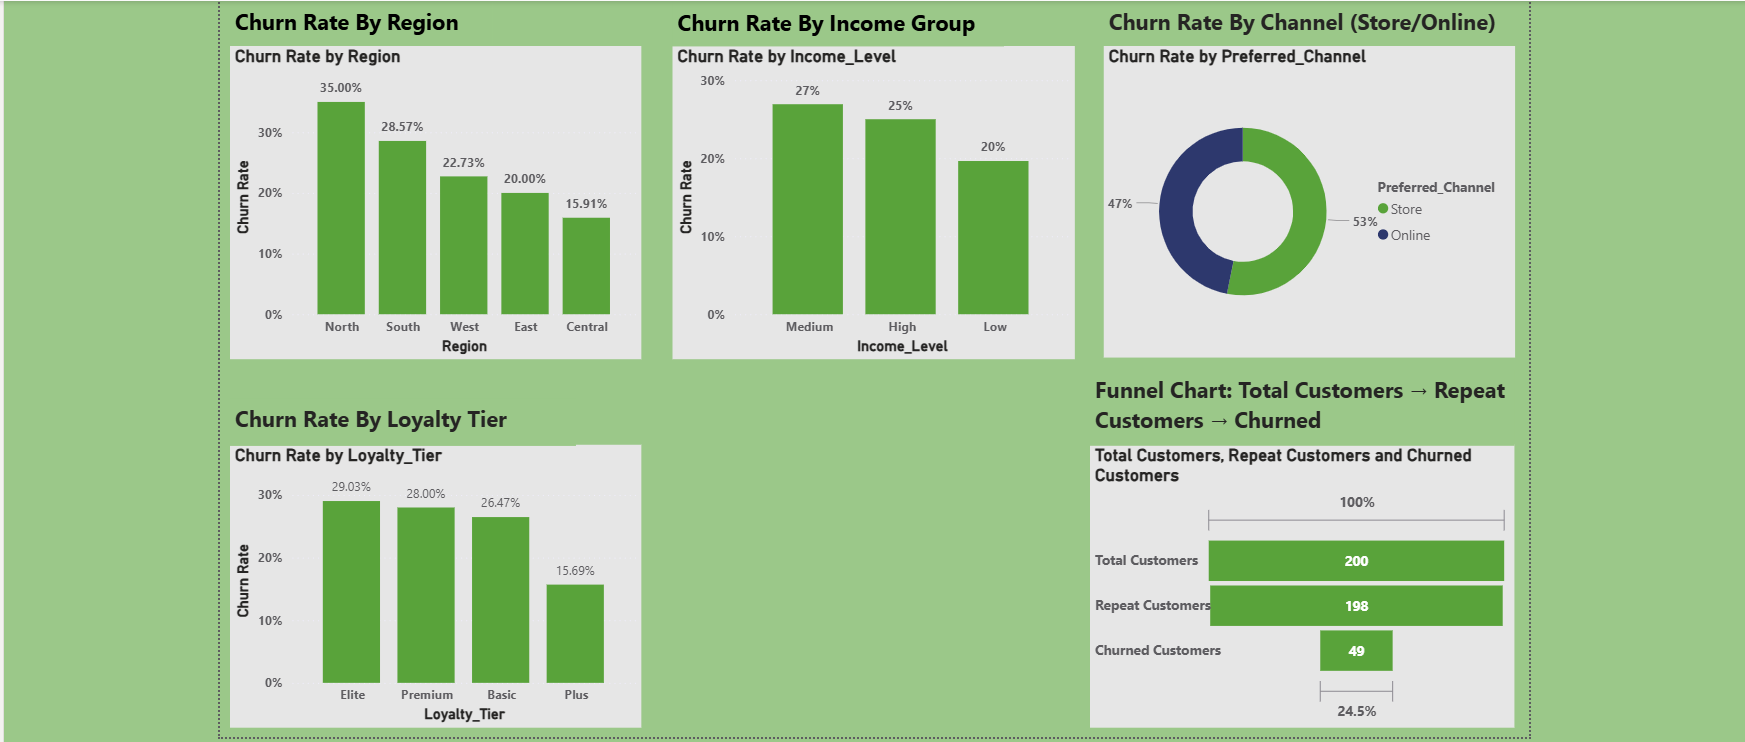

What the dashboard file says about the page in this screenshot:
{"tool":"powerbi","page":{"name":"Task 2","canvas":[1280,720],"ordinal":0},"visuals":[{"type":"clusteredColumnChart","fields":{"Category":["Customer_Demographics.Region"],"Y":["measures .Churn Rate KPI"]},"box":[10.3,43.6,402.6,306.4],"z":0},{"type":"textbox","box":[10.3,0,256.4,43.6],"z":1000},{"type":"clusteredColumnChart","fields":{"Category":["Customer_Demographics.Income_Level"],"Y":["measures .Churn Rate KPI"]},"box":[442.3,43.6,393.6,306.4],"z":2000},{"type":"textbox","box":[442.3,1.3,324.4,43.6],"z":3000},{"type":"donutChart","fields":{"Category":["Customer_Demographics.Preferred_Channel"],"Y":["measures .Churn Rate KPI"]},"box":[864.1,43.6,402.6,305.1],"z":4000},{"type":"textbox","box":[864.1,0,402.6,43.6],"z":5000},{"type":"clusteredColumnChart","fields":{"Category":["Loyalty_Program.Loyalty_Tier"],"Y":["measures .Churn Rate KPI"]},"box":[10.3,434.6,402.6,276.9],"z":6000},{"type":"textbox","box":[10.3,388.5,338.5,46.2],"z":7000},{"type":"funnel","fields":{"Y":["measures .Total Customers","measures .Repeat Customers","measures .Churned Customers"]},"box":[851.3,434.6,415.4,276.9],"z":8000},{"type":"textbox","box":[851.3,360.3,415.4,74.4],"z":9000}]}

Visuals, with their boxes on the page's 1280x720 design canvas (x1, y1, x2, y2). These are canvas units, not pixel positions in the 1745x742 screenshot, which may show the page scaled, cropped or inside an application window:
clusteredColumnChart - Customer_Demographics.Region x measures .Churn Rate KPI: bbox(10, 44, 413, 350)
textbox: bbox(10, 0, 267, 44)
clusteredColumnChart - Customer_Demographics.Income_Level x measures .Churn Rate KPI: bbox(442, 44, 836, 350)
textbox: bbox(442, 1, 767, 45)
donutChart - Customer_Demographics.Preferred_Channel x measures .Churn Rate KPI: bbox(864, 44, 1267, 349)
textbox: bbox(864, 0, 1267, 44)
clusteredColumnChart - Loyalty_Program.Loyalty_Tier x measures .Churn Rate KPI: bbox(10, 435, 413, 712)
textbox: bbox(10, 388, 349, 435)
funnel - measures .Total Customers x measures .Repeat Customers: bbox(851, 435, 1267, 712)
textbox: bbox(851, 360, 1267, 435)
